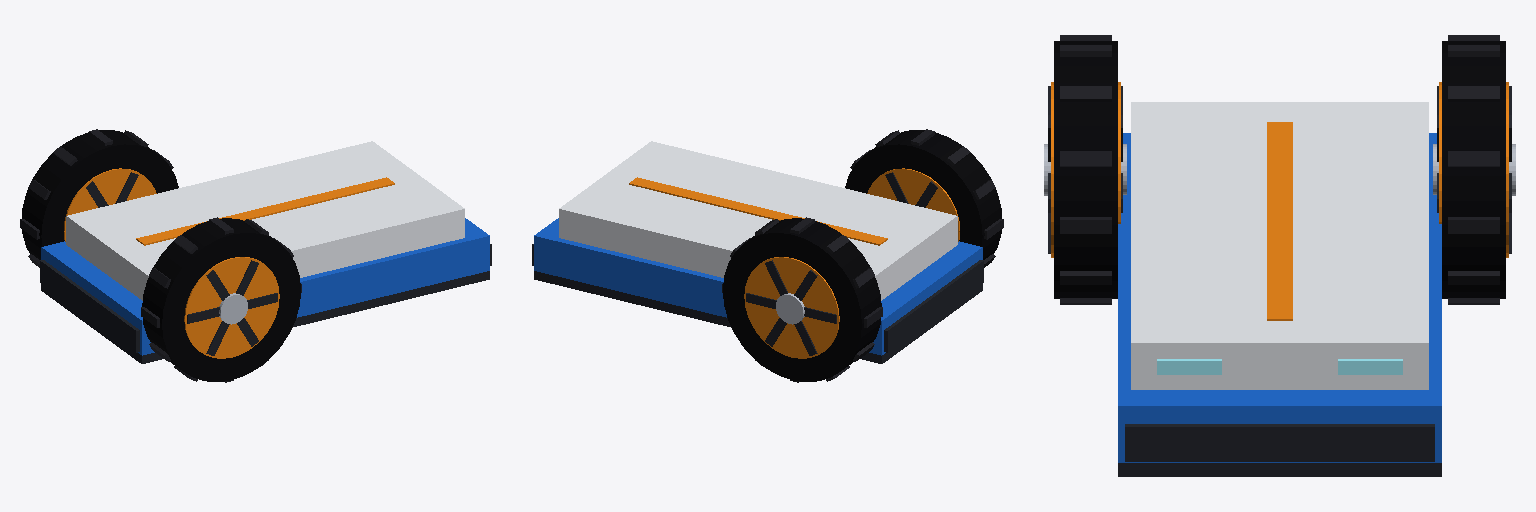
robot.urdf — simple_diff_drive_robot:
<?xml version="1.0"?>
<robot name="simple_diff_drive_robot">

  <!-- Main chassis -->
  <link name="base_link">
    <visual>
      <geometry>
        <box size="0.5 0.25 0.012"/>
      </geometry>
      <origin xyz="0 0 -0.044" rpy="0 0 0"/>
      <material name="graphite">
        <color rgba="0.17 0.18 0.21 1"/>
      </material>
    </visual>
    <visual>
      <geometry>
        <box size="0.5 0.25 0.048"/>
      </geometry>
      <origin xyz="0 0 -0.014" rpy="0 0 0"/>
      <material name="blue">
        <color rgba="0.15 0.45 0.85 1"/>
      </material>
    </visual>
    <visual>
      <geometry>
        <box size="0.44 0.23 0.04"/>
      </geometry>
      <origin xyz="0 0 0.03" rpy="0 0 0"/>
      <material name="white">
        <color rgba="0.93 0.94 0.96 1"/>
      </material>
    </visual>
    <visual>
      <geometry>
        <box size="0.36 0.02 0.002"/>
      </geometry>
      <origin xyz="0 0 0.051" rpy="0 0 0"/>
      <material name="orange">
        <color rgba="0.95 0.55 0.12 1"/>
      </material>
    </visual>
    <visual>
      <geometry>
        <box size="0.02 0.24 0.03"/>
      </geometry>
      <origin xyz="0.245 0 -0.02" rpy="0 0 0"/>
      <material name="graphite">
        <color rgba="0.17 0.18 0.21 1"/>
      </material>
    </visual>
    <visual>
      <geometry>
        <box size="0.02 0.24 0.03"/>
      </geometry>
      <origin xyz="-0.245 0 -0.02" rpy="0 0 0"/>
      <material name="graphite">
        <color rgba="0.17 0.18 0.21 1"/>
      </material>
    </visual>
    <visual>
      <geometry>
        <box size="0.004 0.05 0.012"/>
      </geometry>
      <origin xyz="0.221 0.07 0.03" rpy="0 0 0"/>
      <material name="light">
        <color rgba="0.65 0.95 1.0 1"/>
      </material>
    </visual>
    <visual>
      <geometry>
        <box size="0.004 0.05 0.012"/>
      </geometry>
      <origin xyz="0.221 -0.07 0.03" rpy="0 0 0"/>
      <material name="light">
        <color rgba="0.65 0.95 1.0 1"/>
      </material>
    </visual>
    <collision>
      <geometry>
        <box size="0.5 0.3 0.1"/>
      </geometry>
    </collision>
    <inertial>
      <mass value="2.0"/>
      <inertia ixx="0.01" iyy="0.01" izz="0.01" ixy="0" ixz="0" iyz="0"/>
    </inertial>
  </link>

  <!-- Left wheel -->
  <link name="left_wheel">
    <visual>
      <geometry>
        <cylinder length="0.05" radius="0.1"/>
      </geometry>
      <material name="tire">
        <color rgba="0.07 0.07 0.08 1"/>
      </material>
    </visual>
    <visual>
      <geometry>
        <cylinder length="0.054" radius="0.068"/>
      </geometry>
      <material name="orange">
        <color rgba="0.95 0.55 0.12 1"/>
      </material>
    </visual>
    <visual>
      <geometry>
        <box size="0.13 0.012 0.058"/>
      </geometry>
      <material name="graphite">
        <color rgba="0.17 0.18 0.21 1"/>
      </material>
    </visual>
    <visual>
      <geometry>
        <box size="0.13 0.012 0.058"/>
      </geometry>
      <origin xyz="0 0 0" rpy="0 0 1.0472"/>
      <material name="graphite">
        <color rgba="0.17 0.18 0.21 1"/>
      </material>
    </visual>
    <visual>
      <geometry>
        <box size="0.13 0.012 0.058"/>
      </geometry>
      <origin xyz="0 0 0" rpy="0 0 2.0944"/>
      <material name="graphite">
        <color rgba="0.17 0.18 0.21 1"/>
      </material>
    </visual>
    <visual>
      <geometry>
        <cylinder length="0.064" radius="0.02"/>
      </geometry>
      <material name="silver">
        <color rgba="0.76 0.78 0.82 1"/>
      </material>
    </visual>
    <visual>
      <geometry>
        <box size="0.008 0.012 0.04"/>
      </geometry>
      <origin xyz="0.1000 0.0000 0" rpy="0 0 0.0000"/>
      <material name="lug">
        <color rgba="0.16 0.16 0.18 1"/>
      </material>
    </visual>
    <visual>
      <geometry>
        <box size="0.008 0.012 0.04"/>
      </geometry>
      <origin xyz="0.0866 0.0500 0" rpy="0 0 0.5236"/>
      <material name="lug">
        <color rgba="0.16 0.16 0.18 1"/>
      </material>
    </visual>
    <visual>
      <geometry>
        <box size="0.008 0.012 0.04"/>
      </geometry>
      <origin xyz="0.0500 0.0866 0" rpy="0 0 1.0472"/>
      <material name="lug">
        <color rgba="0.16 0.16 0.18 1"/>
      </material>
    </visual>
    <visual>
      <geometry>
        <box size="0.008 0.012 0.04"/>
      </geometry>
      <origin xyz="0.0000 0.1000 0" rpy="0 0 1.5708"/>
      <material name="lug">
        <color rgba="0.16 0.16 0.18 1"/>
      </material>
    </visual>
    <visual>
      <geometry>
        <box size="0.008 0.012 0.04"/>
      </geometry>
      <origin xyz="-0.0500 0.0866 0" rpy="0 0 2.0944"/>
      <material name="lug">
        <color rgba="0.16 0.16 0.18 1"/>
      </material>
    </visual>
    <visual>
      <geometry>
        <box size="0.008 0.012 0.04"/>
      </geometry>
      <origin xyz="-0.0866 0.0500 0" rpy="0 0 2.6180"/>
      <material name="lug">
        <color rgba="0.16 0.16 0.18 1"/>
      </material>
    </visual>
    <visual>
      <geometry>
        <box size="0.008 0.012 0.04"/>
      </geometry>
      <origin xyz="-0.1000 0.0000 0" rpy="0 0 3.1416"/>
      <material name="lug">
        <color rgba="0.16 0.16 0.18 1"/>
      </material>
    </visual>
    <visual>
      <geometry>
        <box size="0.008 0.012 0.04"/>
      </geometry>
      <origin xyz="-0.0866 -0.0500 0" rpy="0 0 3.6652"/>
      <material name="lug">
        <color rgba="0.16 0.16 0.18 1"/>
      </material>
    </visual>
    <visual>
      <geometry>
        <box size="0.008 0.012 0.04"/>
      </geometry>
      <origin xyz="-0.0500 -0.0866 0" rpy="0 0 4.1888"/>
      <material name="lug">
        <color rgba="0.16 0.16 0.18 1"/>
      </material>
    </visual>
    <visual>
      <geometry>
        <box size="0.008 0.012 0.04"/>
      </geometry>
      <origin xyz="-0.0000 -0.1000 0" rpy="0 0 4.7124"/>
      <material name="lug">
        <color rgba="0.16 0.16 0.18 1"/>
      </material>
    </visual>
    <visual>
      <geometry>
        <box size="0.008 0.012 0.04"/>
      </geometry>
      <origin xyz="0.0500 -0.0866 0" rpy="0 0 5.2360"/>
      <material name="lug">
        <color rgba="0.16 0.16 0.18 1"/>
      </material>
    </visual>
    <visual>
      <geometry>
        <box size="0.008 0.012 0.04"/>
      </geometry>
      <origin xyz="0.0866 -0.0500 0" rpy="0 0 5.7596"/>
      <material name="lug">
        <color rgba="0.16 0.16 0.18 1"/>
      </material>
    </visual>
  </link>

  <!-- Right wheel -->
  <link name="right_wheel">
    <visual>
      <geometry>
        <cylinder length="0.05" radius="0.1"/>
      </geometry>
      <material name="tire">
        <color rgba="0.07 0.07 0.08 1"/>
      </material>
    </visual>
    <visual>
      <geometry>
        <cylinder length="0.054" radius="0.068"/>
      </geometry>
      <material name="orange">
        <color rgba="0.95 0.55 0.12 1"/>
      </material>
    </visual>
    <visual>
      <geometry>
        <box size="0.13 0.012 0.058"/>
      </geometry>
      <material name="graphite">
        <color rgba="0.17 0.18 0.21 1"/>
      </material>
    </visual>
    <visual>
      <geometry>
        <box size="0.13 0.012 0.058"/>
      </geometry>
      <origin xyz="0 0 0" rpy="0 0 1.0472"/>
      <material name="graphite">
        <color rgba="0.17 0.18 0.21 1"/>
      </material>
    </visual>
    <visual>
      <geometry>
        <box size="0.13 0.012 0.058"/>
      </geometry>
      <origin xyz="0 0 0" rpy="0 0 2.0944"/>
      <material name="graphite">
        <color rgba="0.17 0.18 0.21 1"/>
      </material>
    </visual>
    <visual>
      <geometry>
        <cylinder length="0.064" radius="0.02"/>
      </geometry>
      <material name="silver">
        <color rgba="0.76 0.78 0.82 1"/>
      </material>
    </visual>
    <visual>
      <geometry>
        <box size="0.008 0.012 0.04"/>
      </geometry>
      <origin xyz="0.1000 0.0000 0" rpy="0 0 0.0000"/>
      <material name="lug">
        <color rgba="0.16 0.16 0.18 1"/>
      </material>
    </visual>
    <visual>
      <geometry>
        <box size="0.008 0.012 0.04"/>
      </geometry>
      <origin xyz="0.0866 0.0500 0" rpy="0 0 0.5236"/>
      <material name="lug">
        <color rgba="0.16 0.16 0.18 1"/>
      </material>
    </visual>
    <visual>
      <geometry>
        <box size="0.008 0.012 0.04"/>
      </geometry>
      <origin xyz="0.0500 0.0866 0" rpy="0 0 1.0472"/>
      <material name="lug">
        <color rgba="0.16 0.16 0.18 1"/>
      </material>
    </visual>
    <visual>
      <geometry>
        <box size="0.008 0.012 0.04"/>
      </geometry>
      <origin xyz="0.0000 0.1000 0" rpy="0 0 1.5708"/>
      <material name="lug">
        <color rgba="0.16 0.16 0.18 1"/>
      </material>
    </visual>
    <visual>
      <geometry>
        <box size="0.008 0.012 0.04"/>
      </geometry>
      <origin xyz="-0.0500 0.0866 0" rpy="0 0 2.0944"/>
      <material name="lug">
        <color rgba="0.16 0.16 0.18 1"/>
      </material>
    </visual>
    <visual>
      <geometry>
        <box size="0.008 0.012 0.04"/>
      </geometry>
      <origin xyz="-0.0866 0.0500 0" rpy="0 0 2.6180"/>
      <material name="lug">
        <color rgba="0.16 0.16 0.18 1"/>
      </material>
    </visual>
    <visual>
      <geometry>
        <box size="0.008 0.012 0.04"/>
      </geometry>
      <origin xyz="-0.1000 0.0000 0" rpy="0 0 3.1416"/>
      <material name="lug">
        <color rgba="0.16 0.16 0.18 1"/>
      </material>
    </visual>
    <visual>
      <geometry>
        <box size="0.008 0.012 0.04"/>
      </geometry>
      <origin xyz="-0.0866 -0.0500 0" rpy="0 0 3.6652"/>
      <material name="lug">
        <color rgba="0.16 0.16 0.18 1"/>
      </material>
    </visual>
    <visual>
      <geometry>
        <box size="0.008 0.012 0.04"/>
      </geometry>
      <origin xyz="-0.0500 -0.0866 0" rpy="0 0 4.1888"/>
      <material name="lug">
        <color rgba="0.16 0.16 0.18 1"/>
      </material>
    </visual>
    <visual>
      <geometry>
        <box size="0.008 0.012 0.04"/>
      </geometry>
      <origin xyz="-0.0000 -0.1000 0" rpy="0 0 4.7124"/>
      <material name="lug">
        <color rgba="0.16 0.16 0.18 1"/>
      </material>
    </visual>
    <visual>
      <geometry>
        <box size="0.008 0.012 0.04"/>
      </geometry>
      <origin xyz="0.0500 -0.0866 0" rpy="0 0 5.2360"/>
      <material name="lug">
        <color rgba="0.16 0.16 0.18 1"/>
      </material>
    </visual>
    <visual>
      <geometry>
        <box size="0.008 0.012 0.04"/>
      </geometry>
      <origin xyz="0.0866 -0.0500 0" rpy="0 0 5.7596"/>
      <material name="lug">
        <color rgba="0.16 0.16 0.18 1"/>
      </material>
    </visual>
  </link>

  <!-- Small rear wheel (caster) -->
  <link name="caster_wheel">
    <visual>
      <geometry>
        <sphere radius="0.02"/>
      </geometry>
      <material name="silver">
        <color rgba="0.76 0.78 0.82 1"/>
      </material>
    </visual>
    <visual>
      <geometry>
        <cylinder length="0.004" radius="0.022"/>
      </geometry>
      <origin xyz="0 0 -0.004" rpy="0 0 0"/>
      <material name="graphite">
        <color rgba="0.17 0.18 0.21 1"/>
      </material>
    </visual>
  </link>

  <joint name="left_wheel_joint" type="continuous">
    <parent link="base_link"/>
    <child link="left_wheel"/>
    <origin xyz="-0.15 0.15 0.025" rpy="1.5708 0 0"/>
    <axis xyz="0 0 1"/>
  </joint>

  <joint name="right_wheel_joint" type="continuous">
    <parent link="base_link"/>
    <child link="right_wheel"/>
    <origin xyz="-0.15 -0.15 0.025" rpy="1.5708 0 0"/>
    <axis xyz="0 0 1"/>
  </joint>

  <joint name="caster_joint" type="fixed">
    <parent link="base_link"/>
    <child link="caster_wheel"/>
    <origin xyz="0.15 0 -0.05" rpy="0 0 0"/>
  </joint>

</robot>

--- Facts derived from the render (not from the file) ---
The picture shows the robot from 3 angles, left to right: view 1: azimuth 30°, elevation 25°; view 2: azimuth 150°, elevation 25°; view 3: azimuth 270°, elevation 25°; orthographic projection.
Model simple_diff_drive_robot with 4 links and 3 joints (2 continuous, 1 fixed), rooted at base_link, posed all joints at 0.
Links seen in each view (by area): view 1: base_link, right_wheel, left_wheel; view 2: base_link, left_wheel, right_wheel; view 3: base_link, left_wheel, right_wheel.
Link boxes in pixels (x1,y1,x2,y2): base_link: (40,141,491,363); right_wheel: (141,217,301,382); left_wheel: (20,129,178,267); base_link: (532,141,983,363); left_wheel: (722,217,882,382); right_wheel: (845,129,1003,267); base_link: (1118,102,1441,476); left_wheel: (1433,35,1515,304); right_wheel: (1044,35,1126,304).
Bounding box of the posed robot: 0.51 × 0.364 × 0.208 m (x, y, z).
Geometry: primitives only (box / cylinder / sphere), no mesh files.
